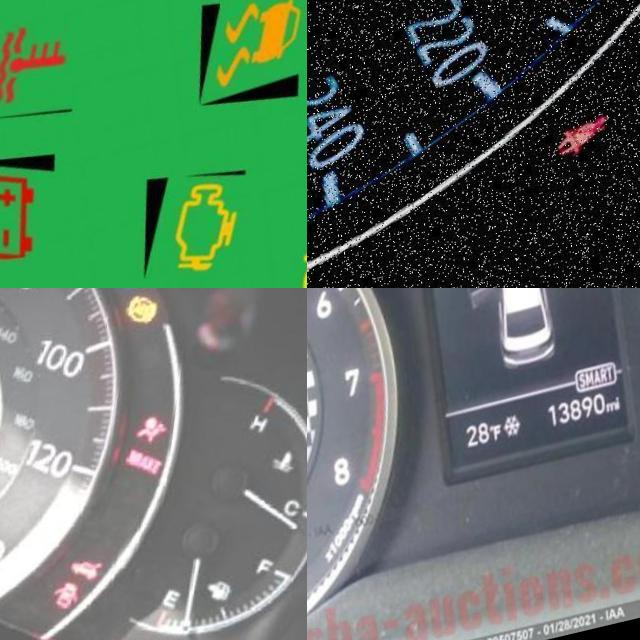Low fuel level: (185, 603, 216, 637)
